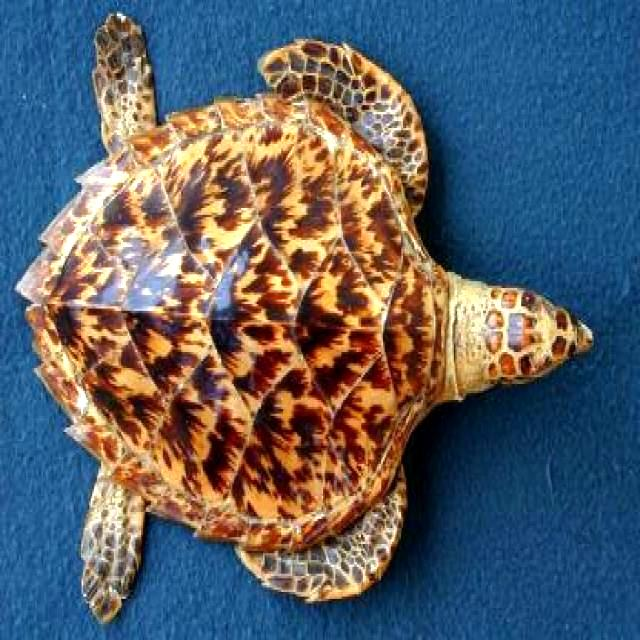Sea turtle: (9, 7, 596, 629)
